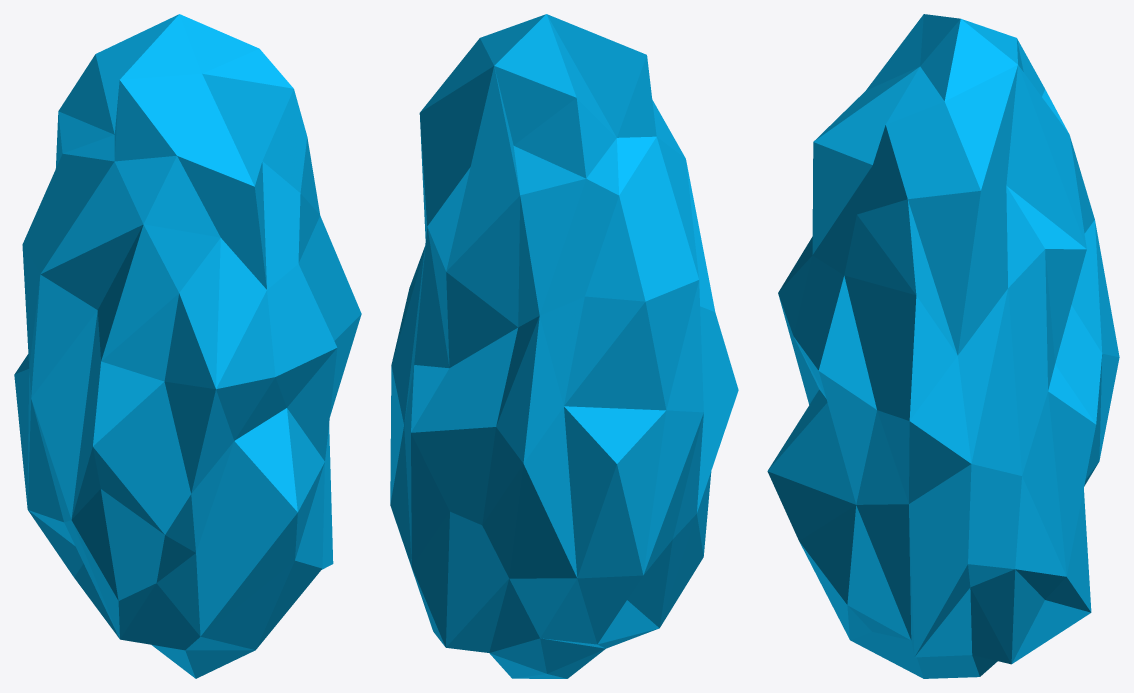
The model's file is Crystal_004.fbx.
3 renders of one model, left to right at view 1: azimuth 30°, elevation 25°; view 2: azimuth 150°, elevation 25°; view 3: azimuth 270°, elevation 25°, orthographic. The views are drawn at different scales.
Parts seen in each view (by area): view 1: Crystal.004; view 2: Crystal.004; view 3: Crystal.004.
Part boxes in pixels (box(x1,y1,x2,y2)): Crystal.004: box(14, 14, 361, 678); Crystal.004: box(390, 14, 738, 678); Crystal.004: box(767, 14, 1119, 678).
Size of the model in its own units: 242 by 491 by 237.
